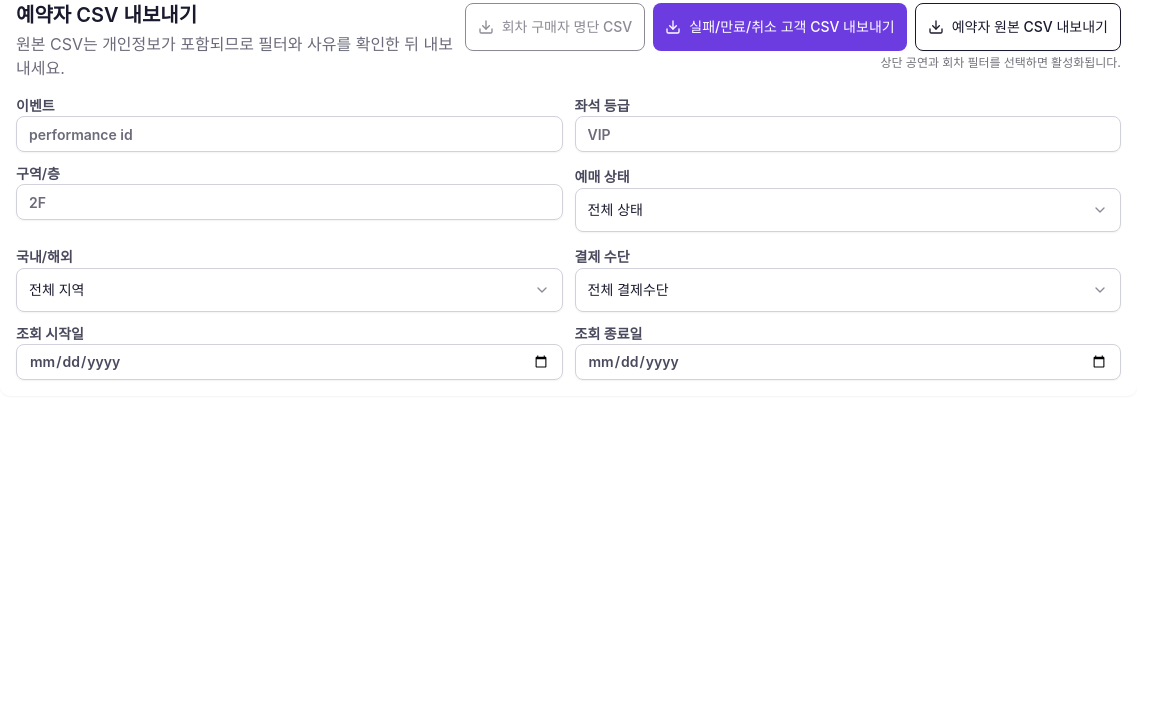
it: ReservationExportPanel › reports a network failure with the fallback message
The image size is (1152, 707).
Click the button "실패/만료/취소 고객 CSV 내보내기": (780, 27) [653, 3, 907, 51]
(page scrolled)
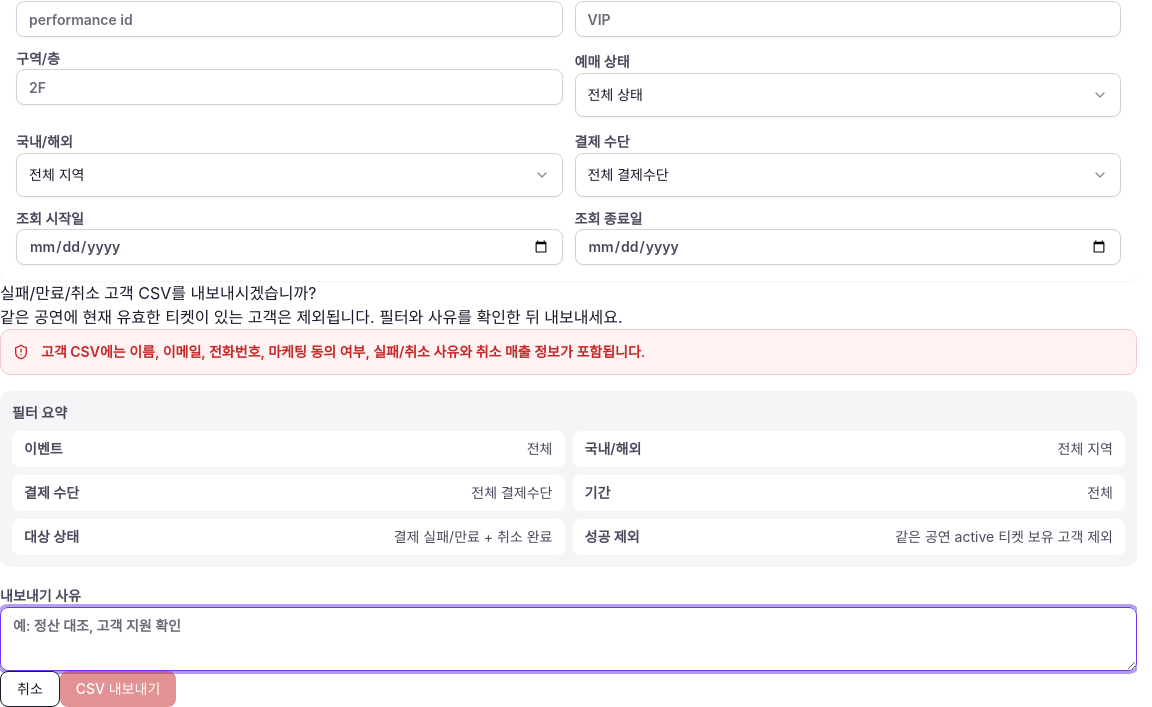
In the text box labelled "내보내기 사유": (568, 639) [0, 607, 1137, 671], type "실패 고객 안내"
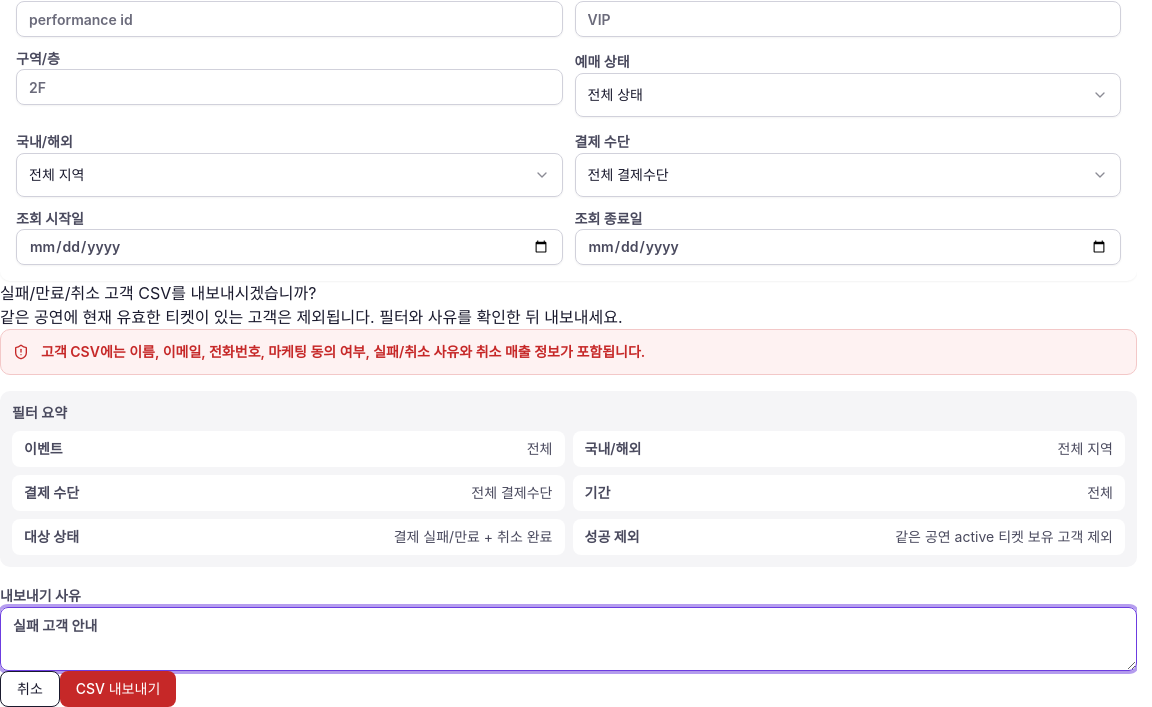
Click the button "CSV 내보내기": (118, 689) [60, 671, 176, 706]
(page scrolled)
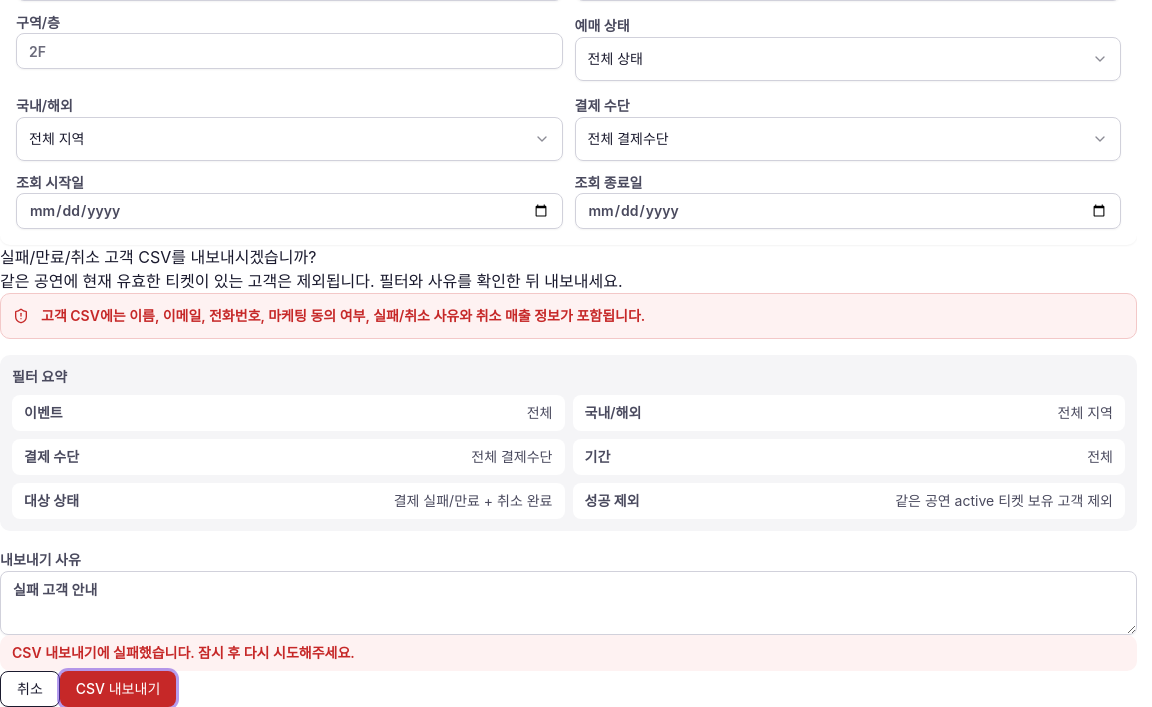
Expected: the dialog is shown
Expected: the text "CSV 내보내기에 실패했습니다. 잠시 후 다시 시도해주세요." is shown, [0, 635, 1137, 671]
